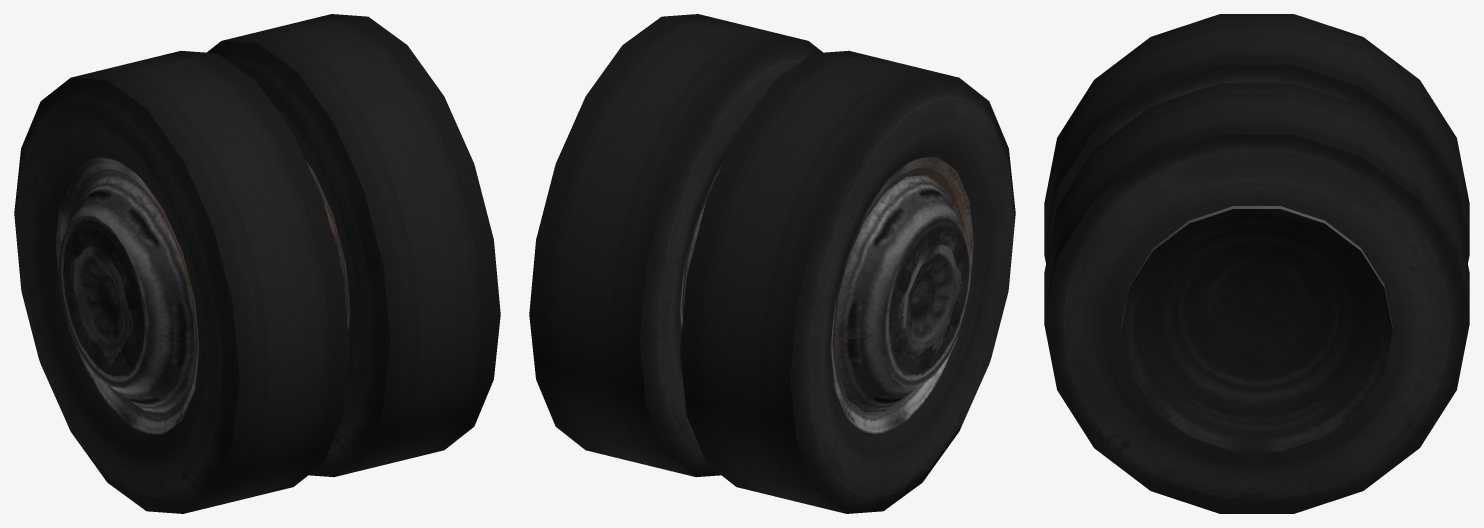
The model's file is right_tire_back.gltf.
The picture shows the model from 3 angles, left to right: view 1: azimuth 30°, elevation 25°; view 2: azimuth 150°, elevation 25°; view 3: azimuth 270°, elevation 25°; orthographic projection. The views are drawn at different scales.
Visible parts, largest first — view 1: wheels_tier_0, wheels_tier_0.001, wheels_rim_0.015, wheels_rim_0, wheels_rim_0.014, wheels_rim_0.001, wheels_rim_0.004; view 2: wheels_tier_0, wheels_tier_0.001, wheels_rim_0.015, wheels_rim_0, wheels_rim_0.014, wheels_rim_0.001, wheels_rim_0.004; view 3: wheels_tier_0.001, wheels_rim_0.017, wheels_tier_0, wheels_rim_0.016.
Part boxes in pixels (x1,y1,x2,y2): wheels_tier_0: (14,50,349,513); wheels_tier_0.001: (207,14,500,477); wheels_rim_0.015: (69,175,195,412); wheels_rim_0: (58,215,147,387); wheels_rim_0.014: (56,156,199,434); wheels_rim_0.001: (75,253,124,348); wheels_rim_0.004: (306,161,350,331); wheels_tier_0: (680,50,1015,513); wheels_tier_0.001: (529,14,822,477); wheels_rim_0.015: (834,175,960,412); wheels_rim_0: (882,215,971,387); wheels_rim_0.014: (830,156,973,434); wheels_rim_0.001: (905,253,954,348); wheels_rim_0.004: (679,161,723,331); wheels_tier_0.001: (1044,83,1469,513); wheels_rim_0.017: (1121,209,1392,451); wheels_tier_0: (1044,14,1469,263); wheels_rim_0.016: (1121,206,1392,329).
Size of the model in its own units: 0.5624 by 0.7177 by 0.7287.
4 materials, 4 textured.
